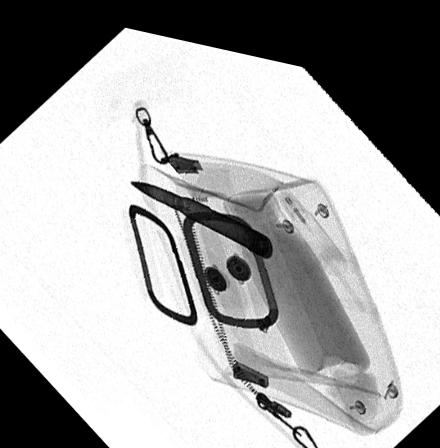Bullet: (127, 172, 273, 247)
